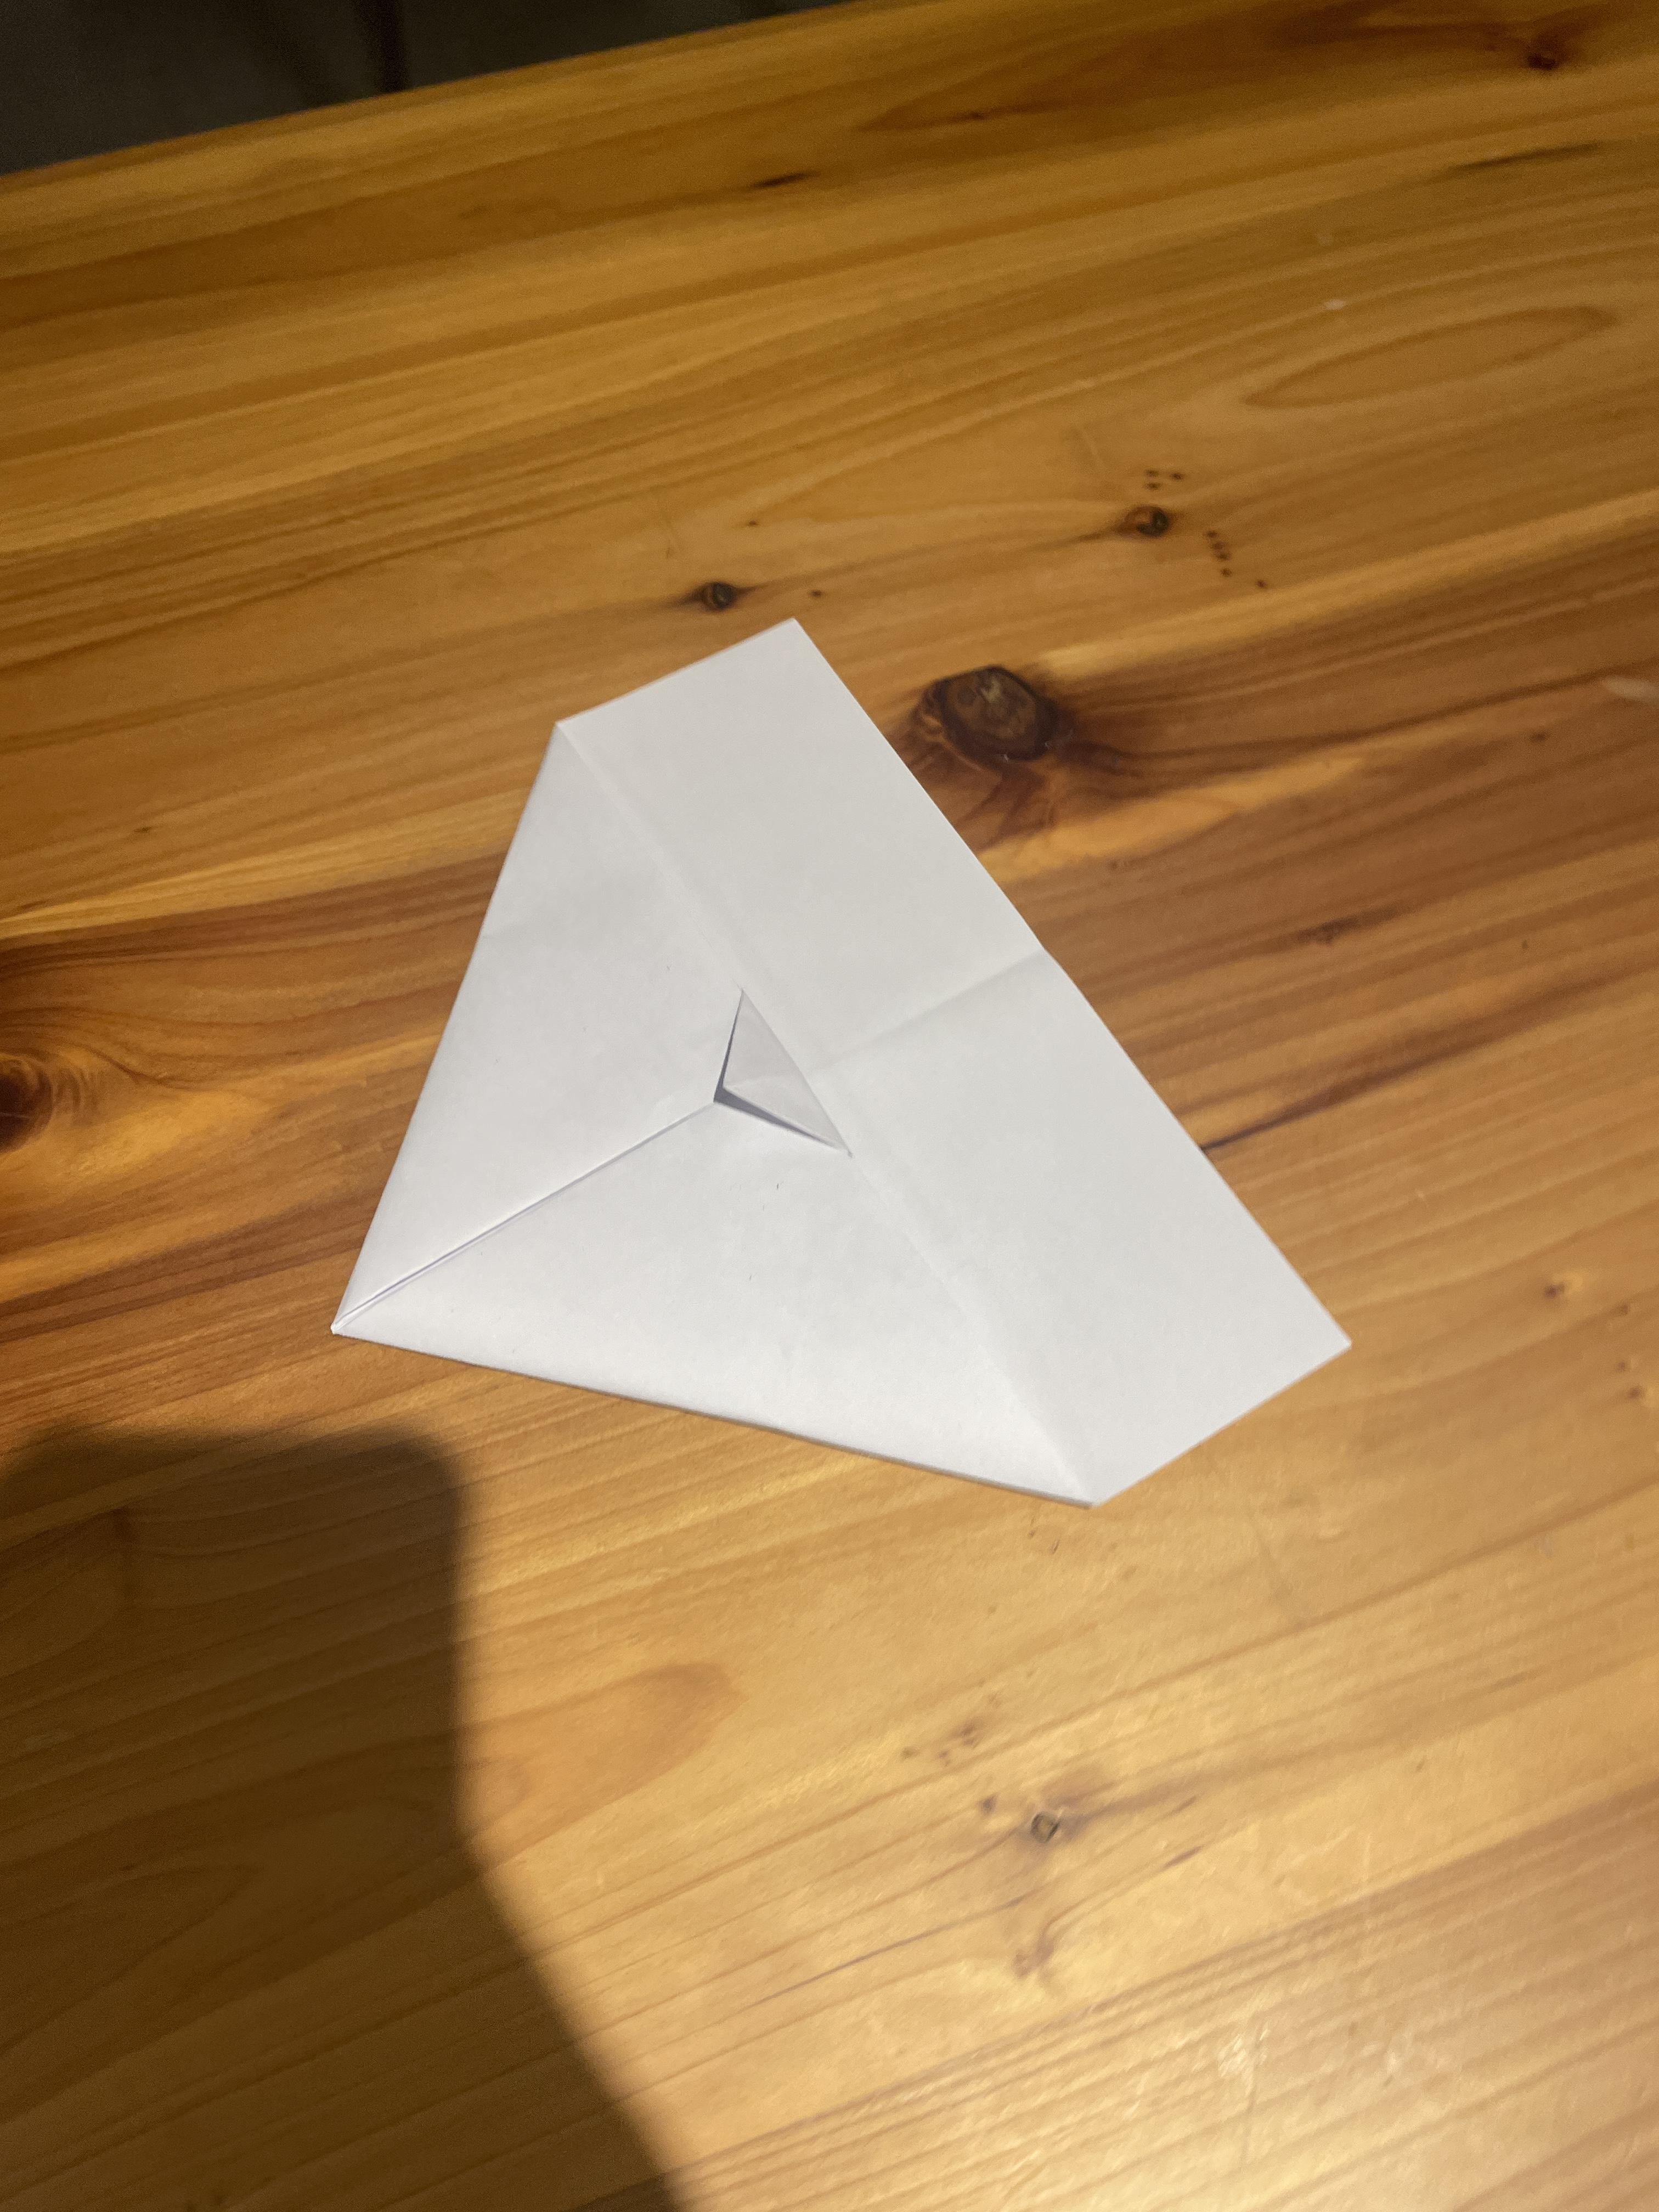shape_2: (268, 556, 1377, 1538)
